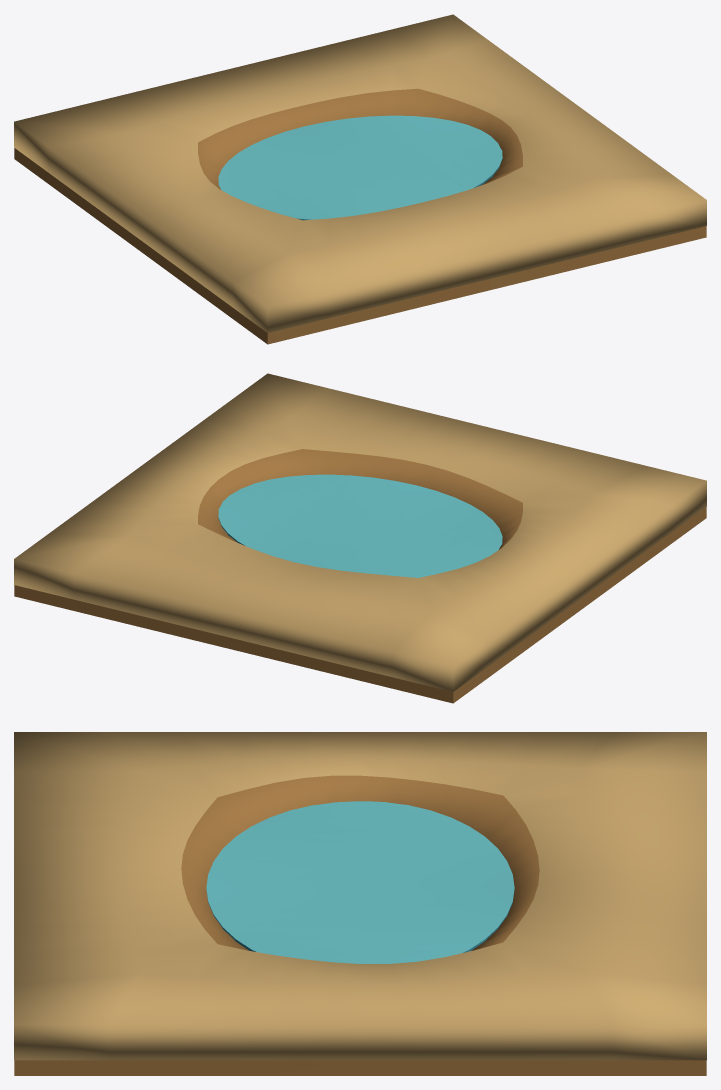
File: Environment_Desert_Oasis8m_001.glb
3 renders of one model, top to bottom at view 1: azimuth 30°, elevation 25°; view 2: azimuth 150°, elevation 25°; view 3: azimuth 270°, elevation 25°, orthographic. The views are drawn at different scales.
Parts seen in each view (by area): view 1: DS_Oasis8m_Body; view 2: DS_Oasis8m_Body; view 3: DS_Oasis8m_Body.
Boxes of the visible parts, x1=… form: DS_Oasis8m_Body: x1=14, y1=14, x2=706, y2=344; DS_Oasis8m_Body: x1=14, y1=373, x2=706, y2=703; DS_Oasis8m_Body: x1=14, y1=732, x2=706, y2=1075.
Size of the model in its own units: 8 by 0.776 by 8.
